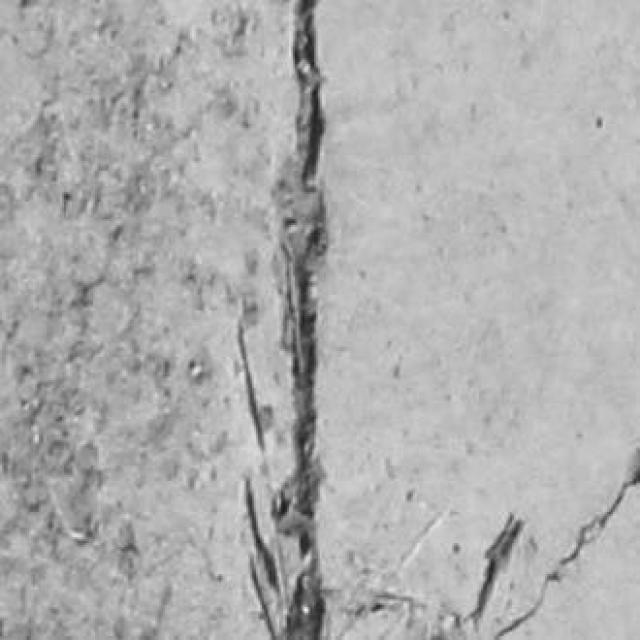crack: (274, 0, 325, 639), (495, 470, 639, 639), (470, 514, 523, 626)
